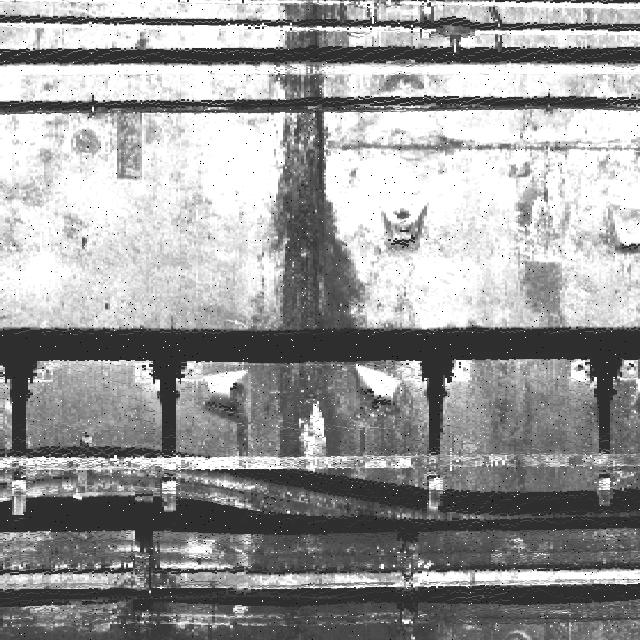leakage: (246, 0, 378, 464)
